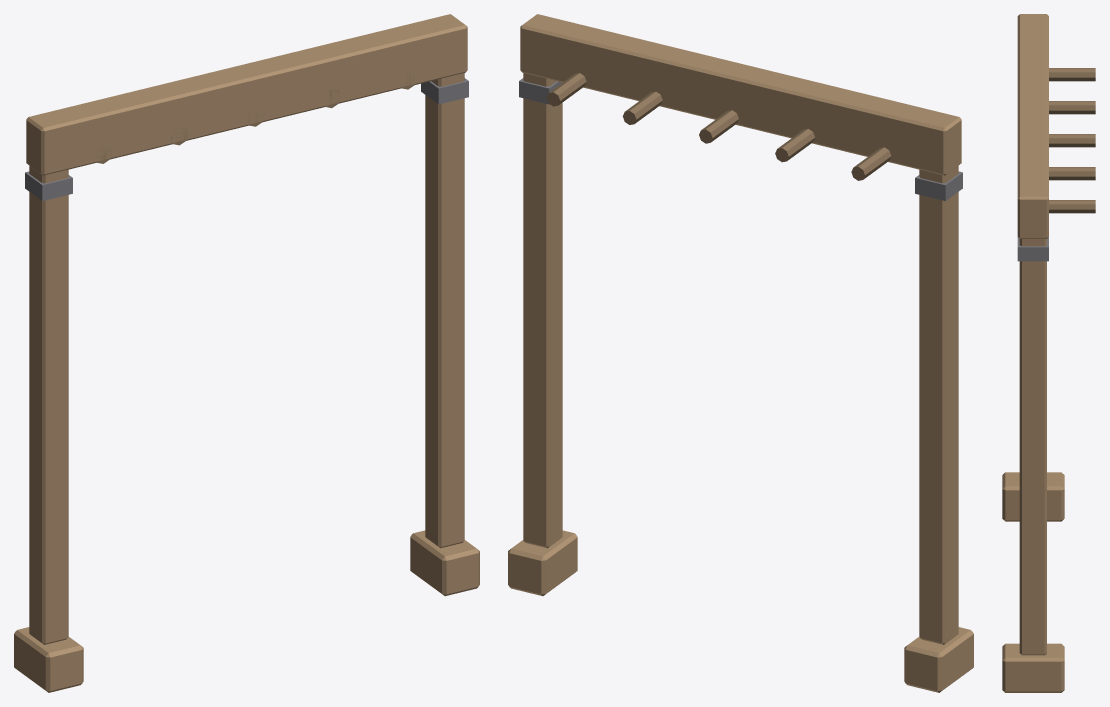
File: prop-bridle-peg-rail.fbx
The picture shows the model from 3 angles, left to right: view 1: azimuth 30°, elevation 25°; view 2: azimuth 150°, elevation 25°; view 3: azimuth 270°, elevation 25°; orthographic projection. The views are drawn at different scales.
Visible parts, largest first — view 1: prop-bridle-peg-rail; view 2: prop-bridle-peg-rail; view 3: prop-bridle-peg-rail.
Part boxes in pixels (x1,y1,x2,y2): prop-bridle-peg-rail: [14, 14, 479, 692]; prop-bridle-peg-rail: [508, 14, 973, 692]; prop-bridle-peg-rail: [1002, 14, 1095, 692].
Bounding box in the file's own units: 1.14 × 1.4 × 0.24.
